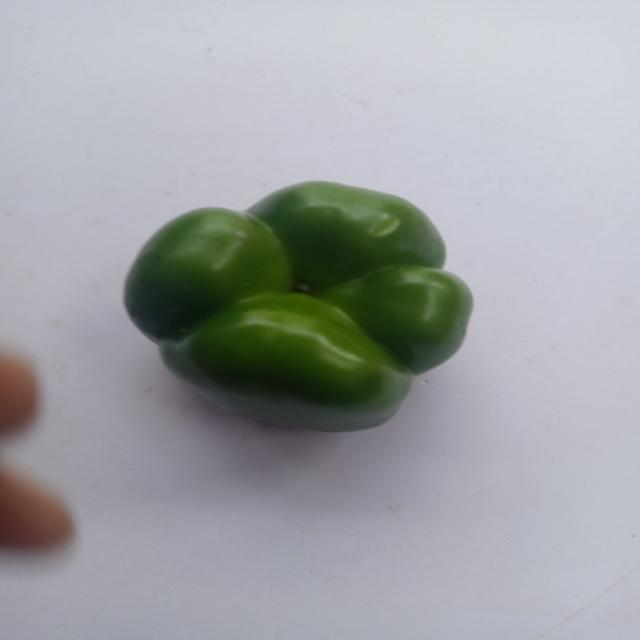Capsicum: (92, 175, 506, 442)
